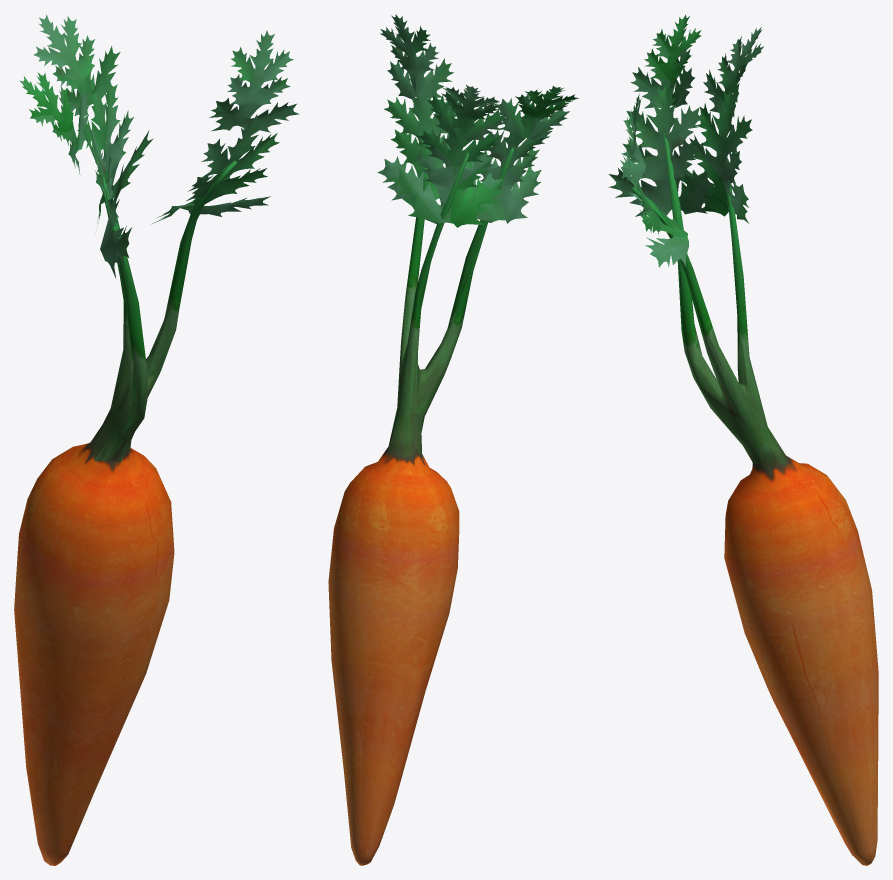
File: carrot.dae
3 views of the same model, side by side, from view 1: azimuth 30°, elevation 25°; view 2: azimuth 150°, elevation 25°; view 3: azimuth 270°, elevation 25° (orthographic). The views are drawn at different scales.
Parts seen in each view (by area): view 1: 10170_Carrot_v01_L3; view 2: 10170_Carrot_v01_L3; view 3: 10170_Carrot_v01_L3.
Part boxes in pixels (left/top/right/bottom): 10170_Carrot_v01_L3: left=14, top=14, right=299, bottom=865; 10170_Carrot_v01_L3: left=328, top=14, right=578, bottom=865; 10170_Carrot_v01_L3: left=608, top=14, right=878, bottom=865.
Size of the model in its own units: 0.7684 by 0.805 by 2.65.
1 material, 1 textured.
